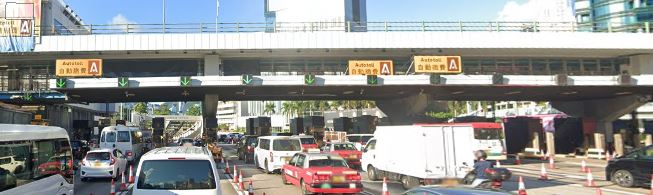Autotoll: (412, 57, 462, 77), (53, 60, 103, 75), (351, 61, 394, 74)
